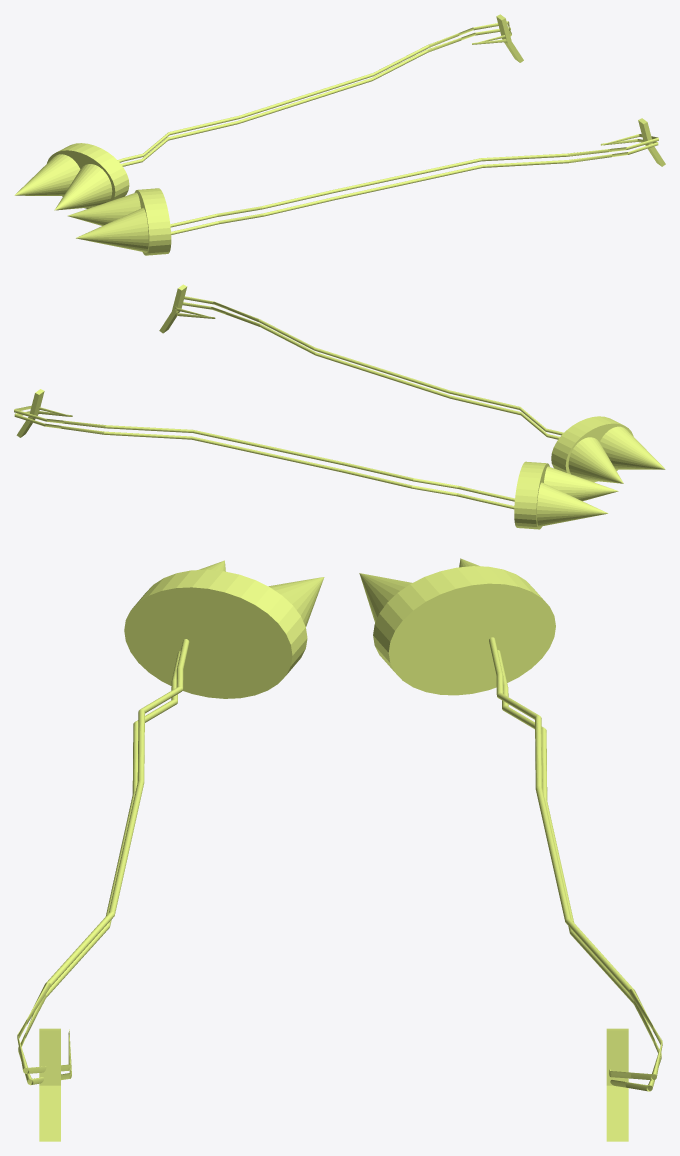
File: Robot_Arms.fbx
3 views of the same model, one above another, from view 1: azimuth 30°, elevation 25°; view 2: azimuth 150°, elevation 25°; view 3: azimuth 270°, elevation 25° (orthographic). The views are drawn at different scales.
Visible parts, largest first — view 1: Greifer Links, Greifer Rechts, Schnur links, Schnur rechts, Hook right, Hook left; view 2: Greifer Rechts, Greifer Links, Schnur rechts, Schnur links, Hook left, Hook right; view 3: Greifer Rechts, Greifer Links, Schnur rechts, Schnur links, Hook left, Hook right.
Part boxes in pixels (x1,y1,x2,y2): Greifer Links: (14, 143, 129, 210); Greifer Rechts: (67, 188, 171, 255); Schnur links: (170, 134, 658, 234); Schnur rechts: (117, 21, 511, 166); Hook right: (496, 14, 523, 62); Hook left: (638, 118, 665, 166); Greifer Rechts: (551, 416, 665, 483); Greifer Links: (514, 461, 618, 529); Schnur rechts: (14, 405, 514, 509); Schnur links: (175, 296, 563, 439); Hook left: (159, 284, 187, 333); Hook right: (16, 389, 44, 437); Greifer Rechts: (124, 560, 324, 698); Greifer Links: (359, 558, 555, 695); Schnur rechts: (489, 637, 662, 1091); Schnur links: (17, 639, 189, 1085); Hook left: (39, 1028, 60, 1141); Hook right: (606, 1028, 628, 1141).
Size of the model in its own units: 269 by 25.85 by 138.
